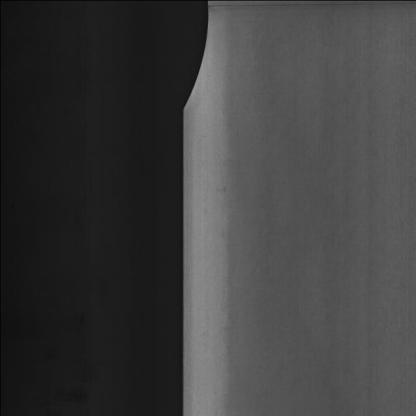crescent_gap: (176, 0, 218, 134)
